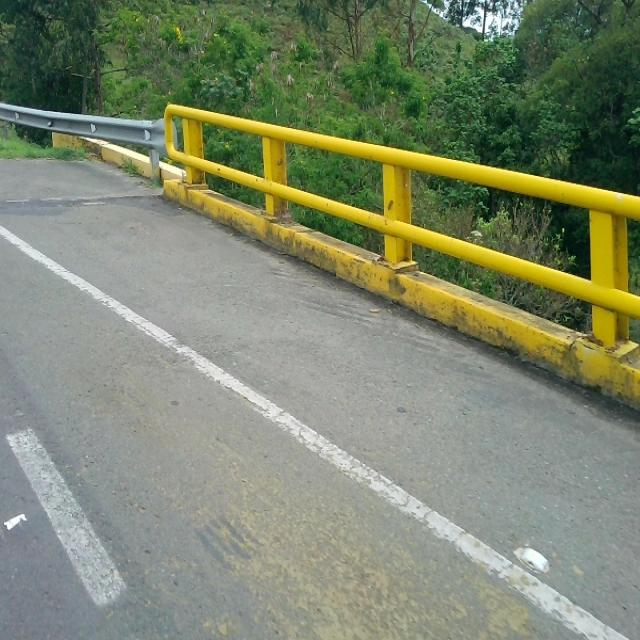DITCH: (2, 33, 638, 633), (1, 152, 638, 638)
